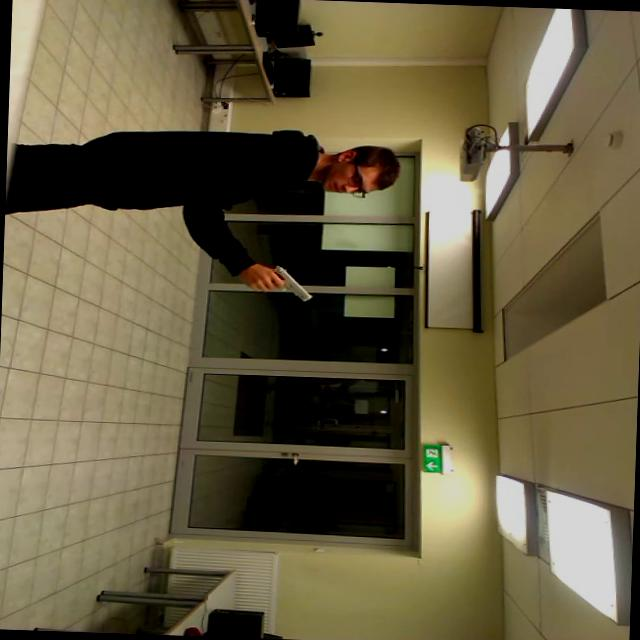handgun: (255, 259, 319, 309)
